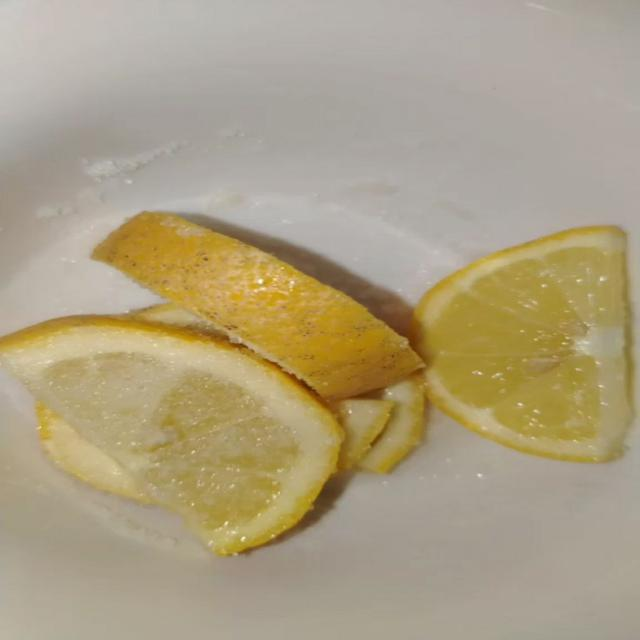lemon: (0, 317, 341, 554), (93, 213, 421, 400), (414, 227, 630, 461), (36, 403, 149, 503), (37, 403, 148, 501), (359, 373, 425, 473), (332, 399, 393, 469), (123, 303, 226, 339)
